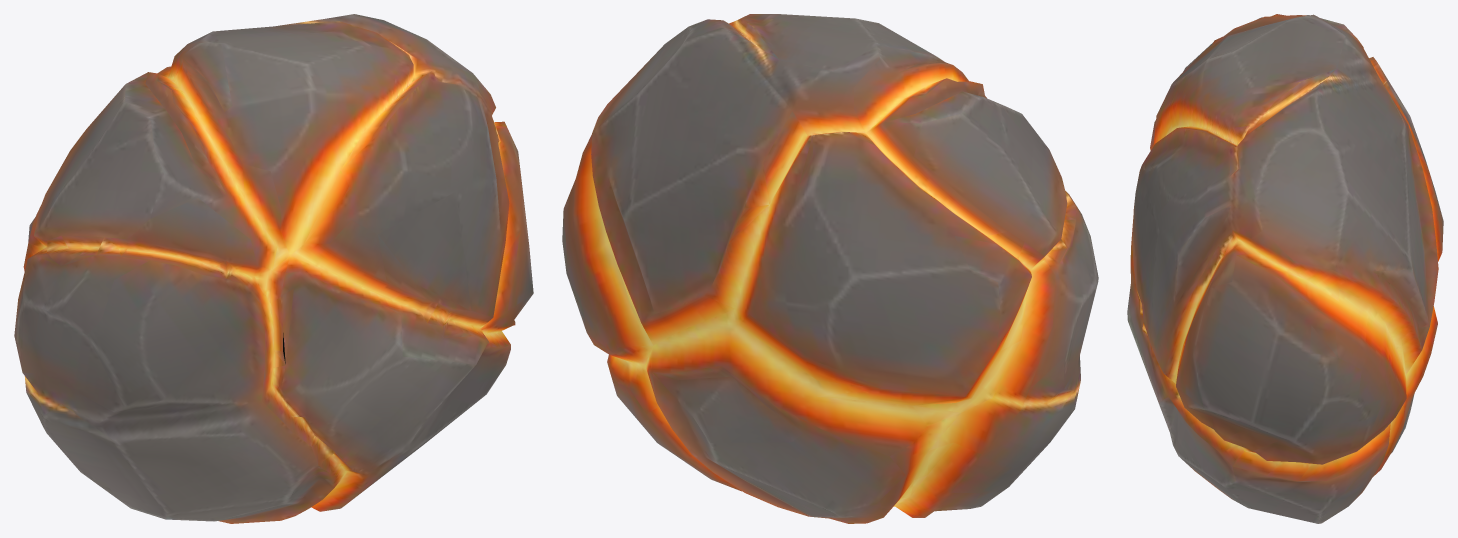
The model's file is SM_PetPart_JingweiPebble.glb.
3 views of the same model, side by side, from view 1: azimuth 30°, elevation 25°; view 2: azimuth 150°, elevation 25°; view 3: azimuth 270°, elevation 25° (orthographic). The views are drawn at different scales.
Visible parts, largest first — view 1: SM_PetPart_JingweiPebble_LOD0; view 2: SM_PetPart_JingweiPebble_LOD0; view 3: SM_PetPart_JingweiPebble_LOD0.
Part boxes in pixels (<box>): SM_PetPart_JingweiPebble_LOD0: <box>14,14,533,523</box>; SM_PetPart_JingweiPebble_LOD0: <box>562,14,1098,523</box>; SM_PetPart_JingweiPebble_LOD0: <box>1127,14,1443,523</box>.
Size of the model in its own units: 0.0801 by 0.0735 by 0.0464.
1 material, 1 textured.
